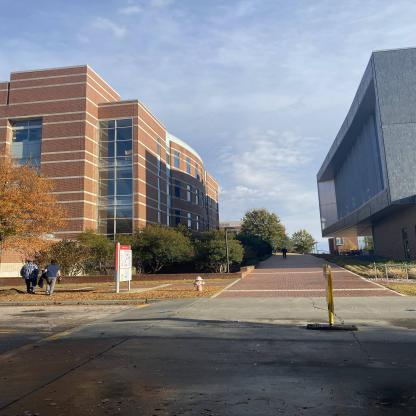EB-1: (0, 58, 256, 278)
